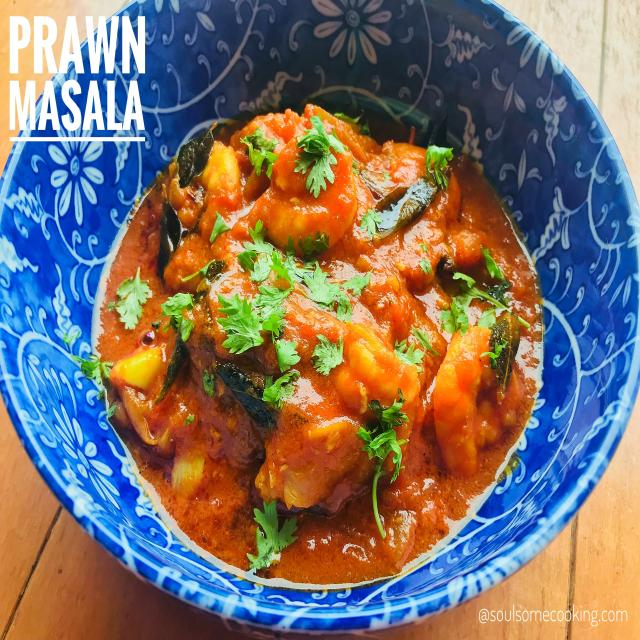prawn thokku: (119, 84, 546, 584)
